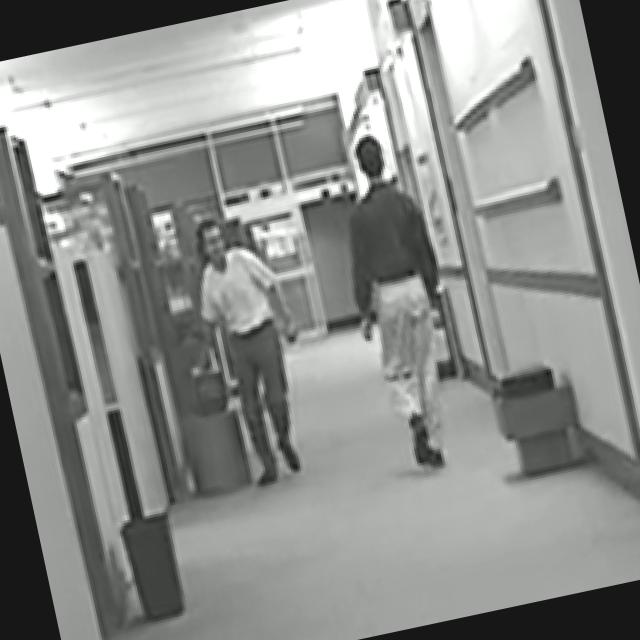person: (321, 125, 480, 479), (165, 206, 329, 494)
